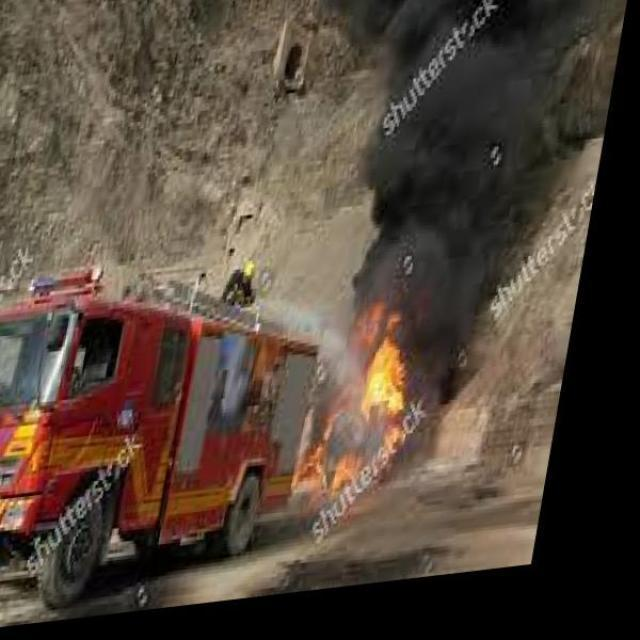emergency: (1, 270, 323, 606)
